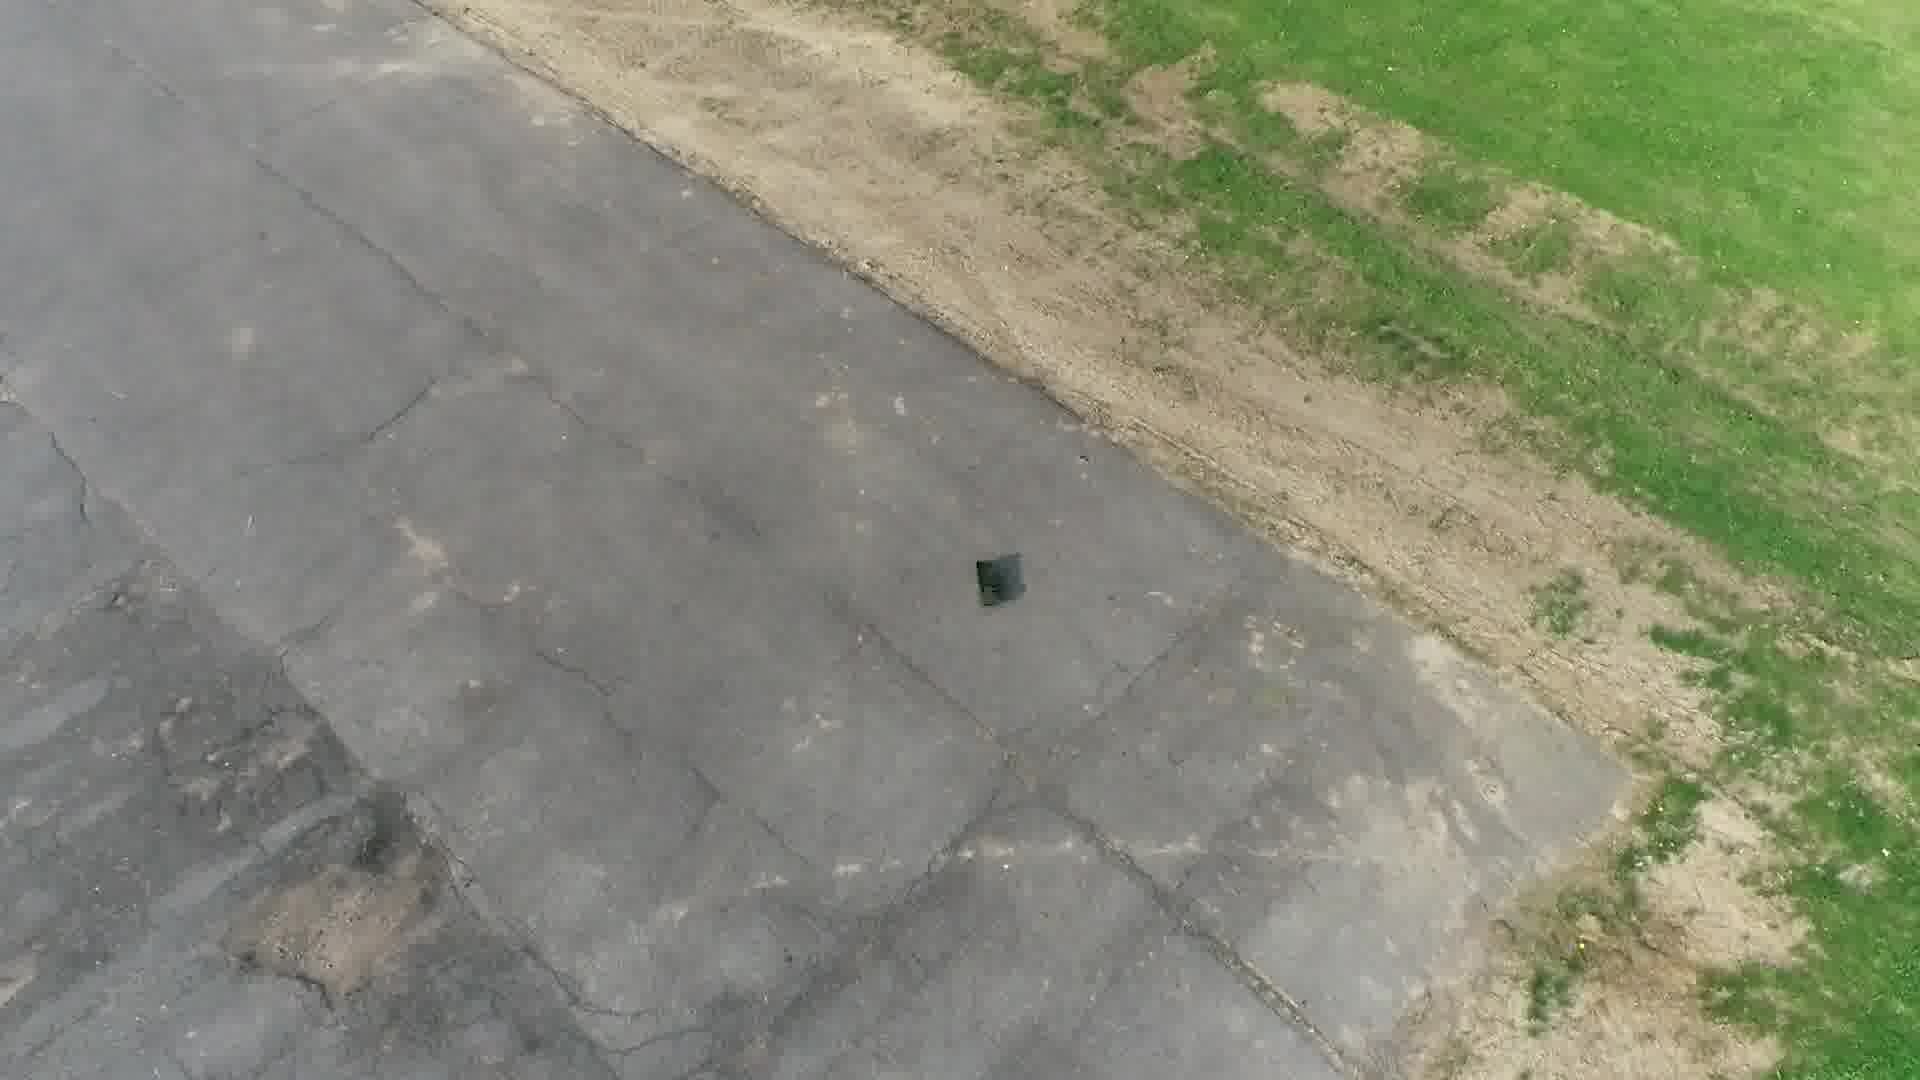transporter9: (971, 554, 1009, 612)
